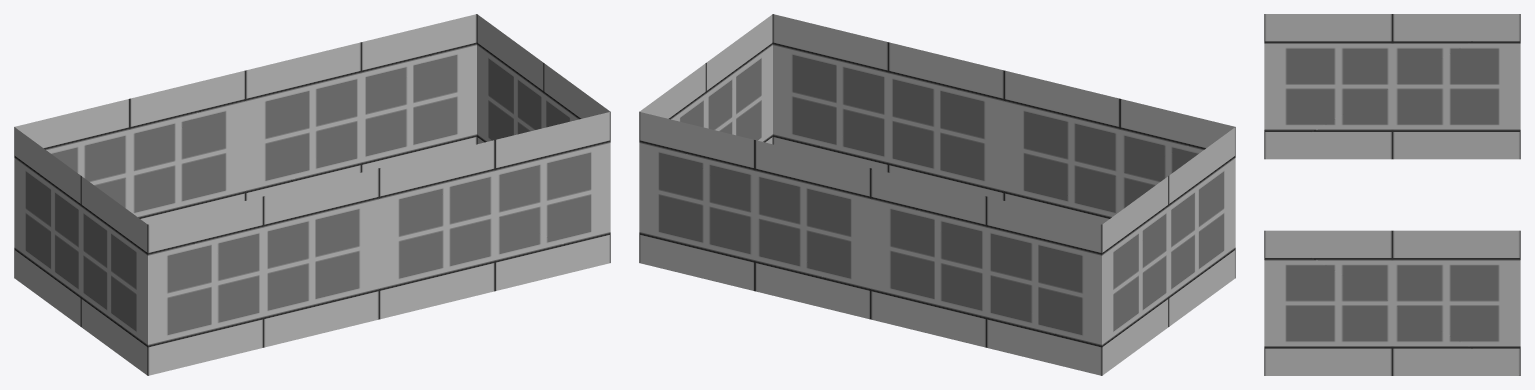
Rendered from highrise_2.glb.
3 renders of one model, left to right at view 1: azimuth 30°, elevation 25°; view 2: azimuth 150°, elevation 25°; view 3: azimuth 270°, elevation 25°, orthographic. The views are drawn at different scales.
Parts seen in each view (by area): view 1: Highrise.2; view 2: Highrise.2; view 3: Highrise.2.
Part boxes in pixels (x1,y1,x2,y2): Highrise.2: (14, 14, 610, 375); Highrise.2: (639, 14, 1235, 375); Highrise.2: (1264, 14, 1520, 375).
Size of the model in its own units: 0.8 by 0.25 by 0.4.
1 material, 1 textured.
